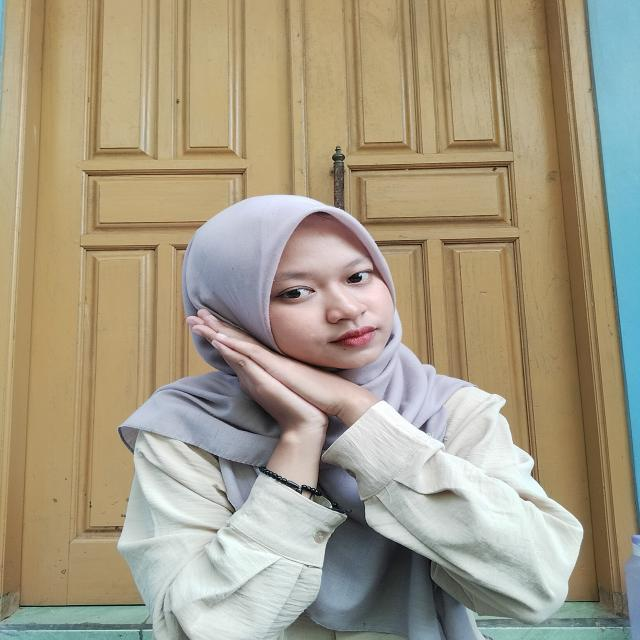tidur: (177, 306, 382, 479)
